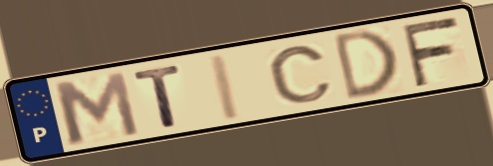C: (265, 44, 336, 106)
D: (330, 26, 401, 104)
F: (397, 13, 462, 90)
I: (205, 50, 245, 124)
M: (48, 69, 144, 147)
T: (131, 61, 186, 130)
